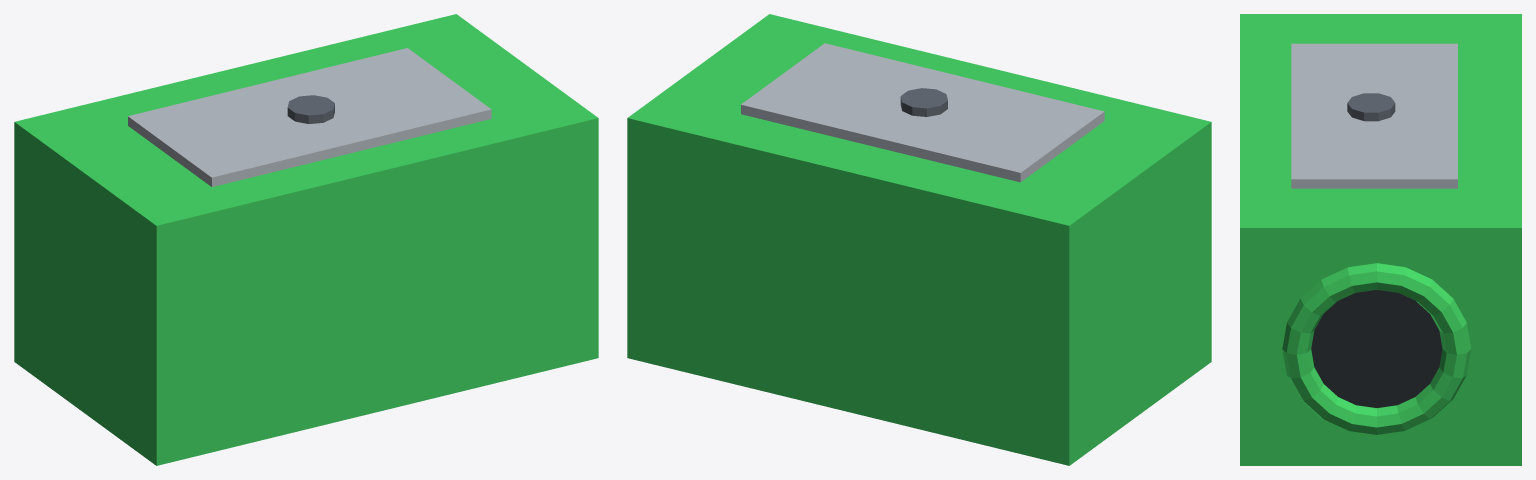
The model's file is Sharpener.fbx.
The picture shows the model from 3 angles, left to right: view 1: azimuth 30°, elevation 25°; view 2: azimuth 150°, elevation 25°; view 3: azimuth 270°, elevation 25°; orthographic projection.
Parts seen in each view (by area): view 1: Parafuso apontador; view 2: Parafuso apontador; view 3: Parafuso apontador.
Boxes of the visible parts, bbox=[...] form: Parafuso apontador: bbox=[14, 14, 598, 465]; Parafuso apontador: bbox=[627, 14, 1211, 465]; Parafuso apontador: bbox=[1240, 14, 1521, 465].
Bounding box in the file's own units: 165 × 88.2 × 88.
